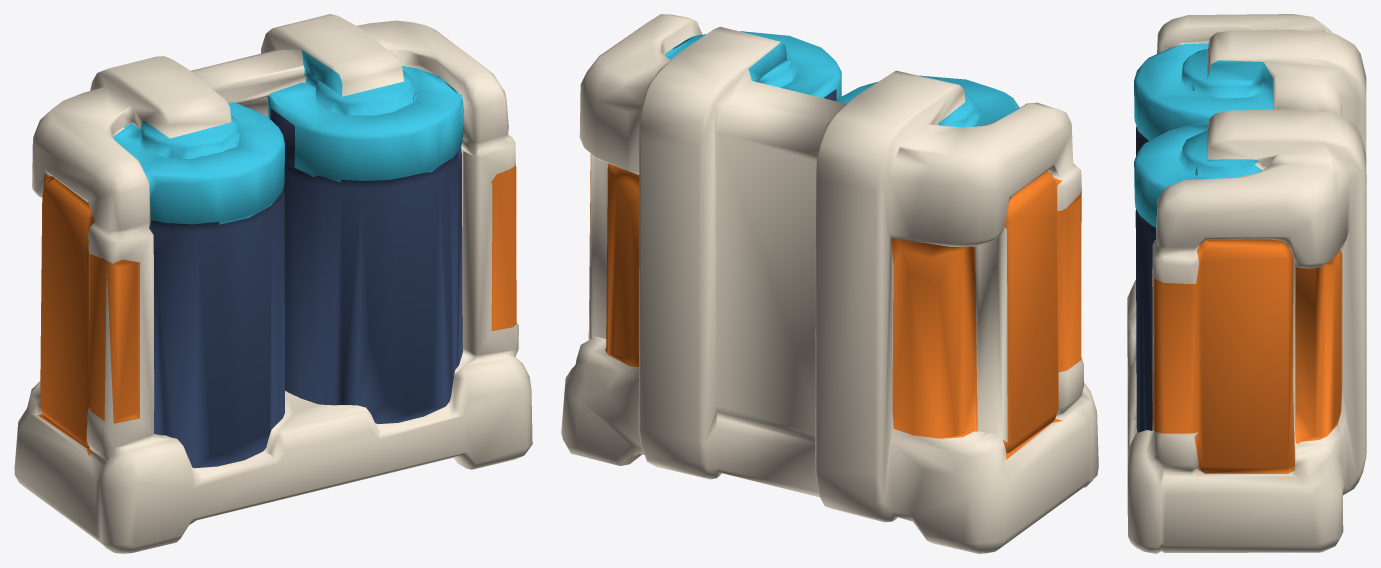
The model's file is cargo-battery.glb.
The picture shows the model from 3 angles, left to right: view 1: azimuth 30°, elevation 25°; view 2: azimuth 150°, elevation 25°; view 3: azimuth 270°, elevation 25°; orthographic projection. The views are drawn at different scales.
Visible parts, largest first — view 1: navy-cyan-battery-stack_LOD0; view 2: navy-cyan-battery-stack_LOD0; view 3: navy-cyan-battery-stack_LOD0.
Boxes of the visible parts, x1=… form: navy-cyan-battery-stack_LOD0: x1=14, y1=14, x2=532, y2=553; navy-cyan-battery-stack_LOD0: x1=561, y1=14, x2=1098, y2=553; navy-cyan-battery-stack_LOD0: x1=1127, y1=14, x2=1366, y2=553.
Size of the model in its own units: 1.35 by 1.2 by 0.6858.
1 material, 1 textured.
